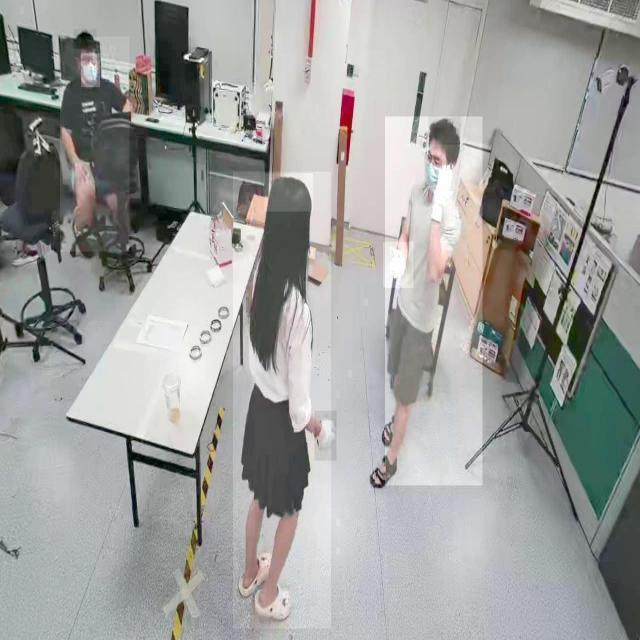gloves: (383, 242, 413, 288), (433, 164, 455, 226), (314, 411, 338, 462)
